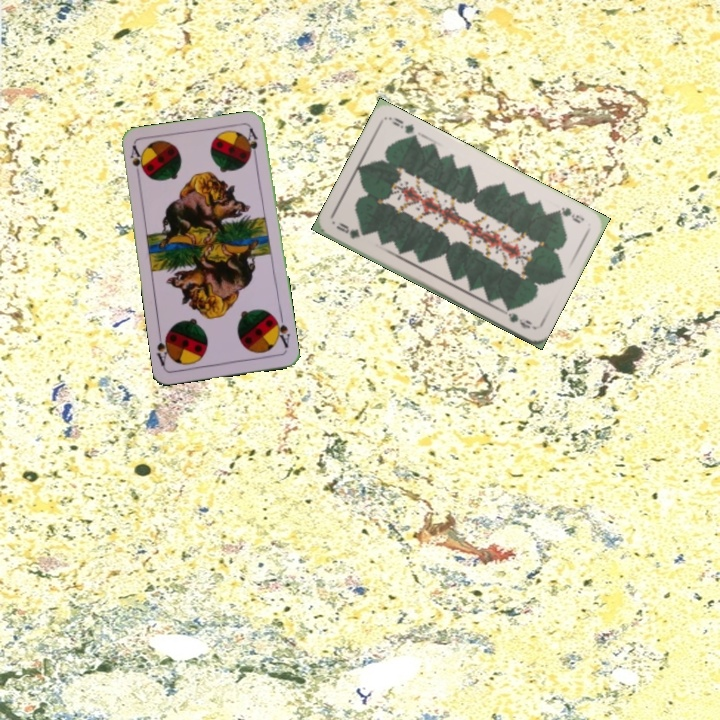G9: (332, 219, 370, 242), (550, 203, 587, 226)
SA: (270, 311, 293, 350), (126, 142, 148, 182)
